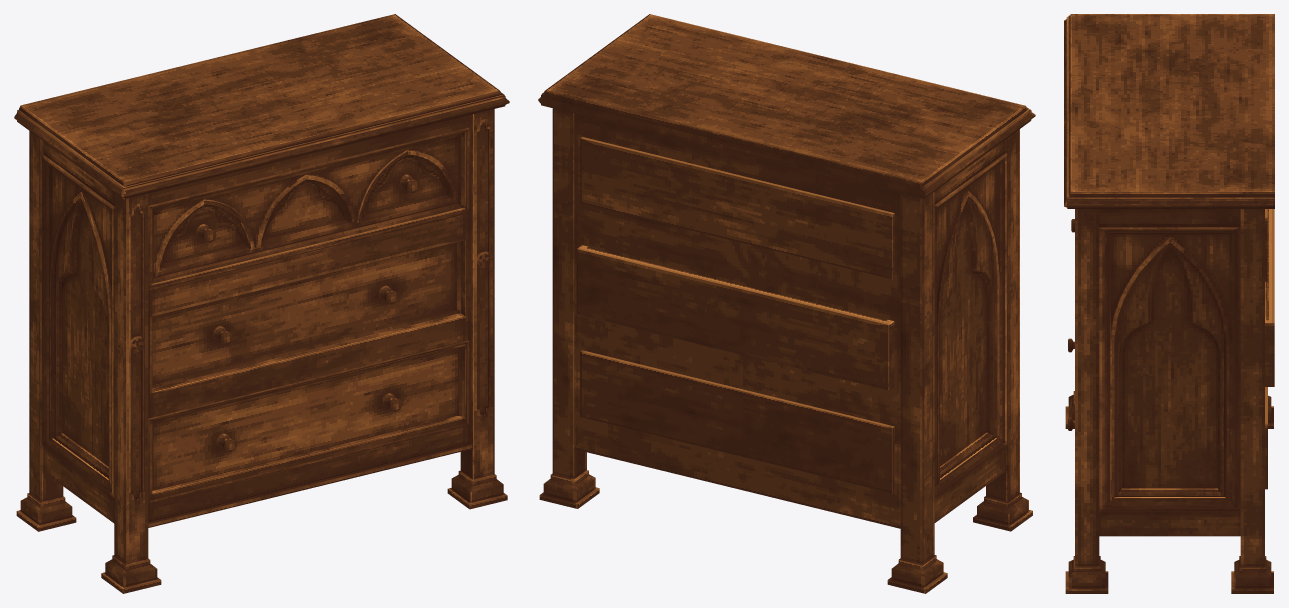
File: GothicCommode_01.glb
The picture shows the model from 3 angles, left to right: view 1: azimuth 30°, elevation 25°; view 2: azimuth 150°, elevation 25°; view 3: azimuth 270°, elevation 25°; orthographic projection. The views are drawn at different scales.
Visible parts, largest first — view 1: mesh; view 2: mesh; view 3: mesh.
Boxes of the visible parts, x1=… form: mesh: x1=14, y1=14, x2=509, y2=593; mesh: x1=538, y1=14, x2=1035, y2=593; mesh: x1=1064, y1=14, x2=1274, y2=593.
Bounding box in the file's own units: 48.06 × 48.48 × 23.23.
1 material, 1 textured.
